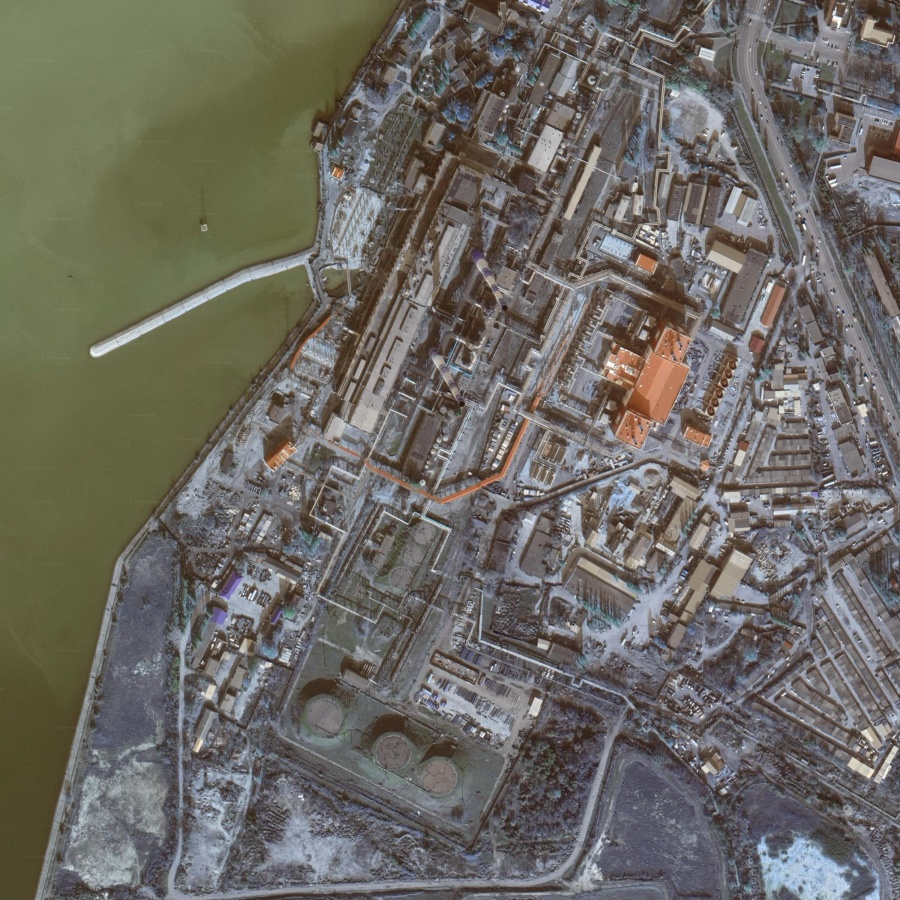PowerPlant: (296, 100, 569, 509), (288, 514, 474, 808)
